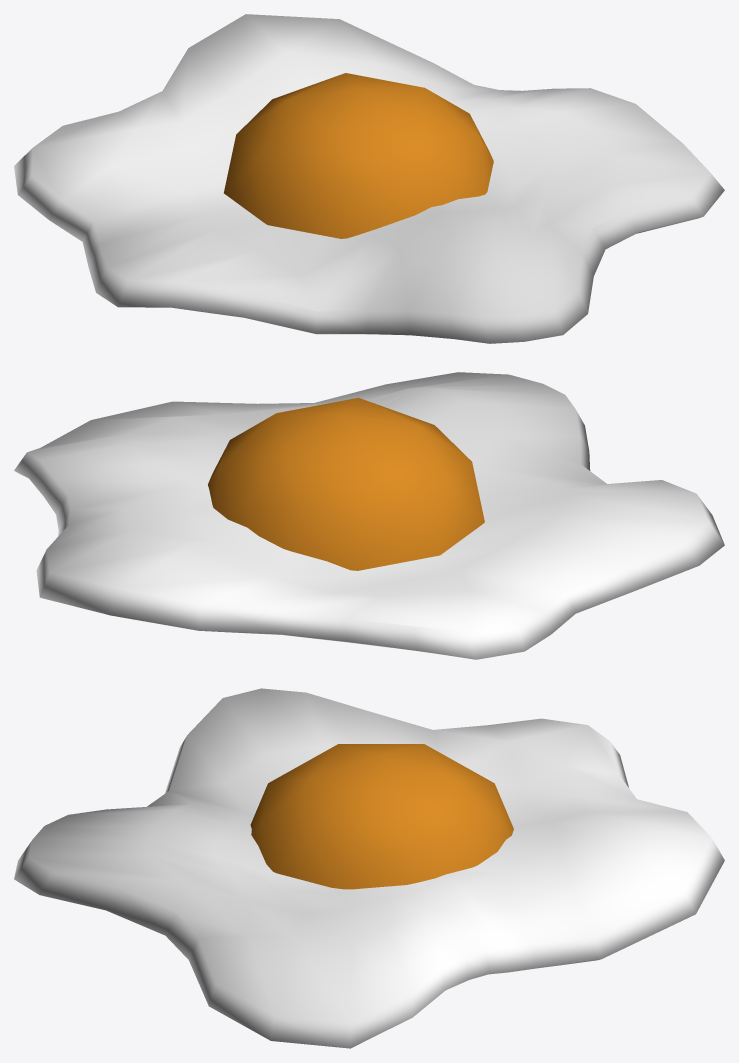
File: Trung op la.fbx
3 views of the same model, one above another, from view 1: azimuth 30°, elevation 25°; view 2: azimuth 150°, elevation 25°; view 3: azimuth 270°, elevation 25° (orthographic). The views are drawn at different scales.
Parts seen in each view (by area): view 1: Trung op la; view 2: Trung op la; view 3: Trung op la.
Part boxes in pixels (x1=…): Trung op la: x1=14, y1=14, x2=724, y2=343; Trung op la: x1=14, y1=372, x2=724, y2=659; Trung op la: x1=14, y1=688, x2=724, y2=1048.
Size of the model in its own units: 38.78 by 8.32 by 38.22.
